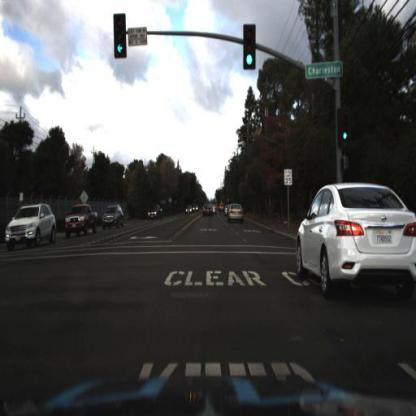car: (284, 179, 416, 313), (1, 200, 63, 257), (62, 200, 102, 244), (224, 202, 247, 224), (103, 205, 124, 229), (147, 200, 163, 223), (200, 199, 216, 219), (185, 204, 195, 216)
trafficLight-Green: (337, 129, 351, 150)
